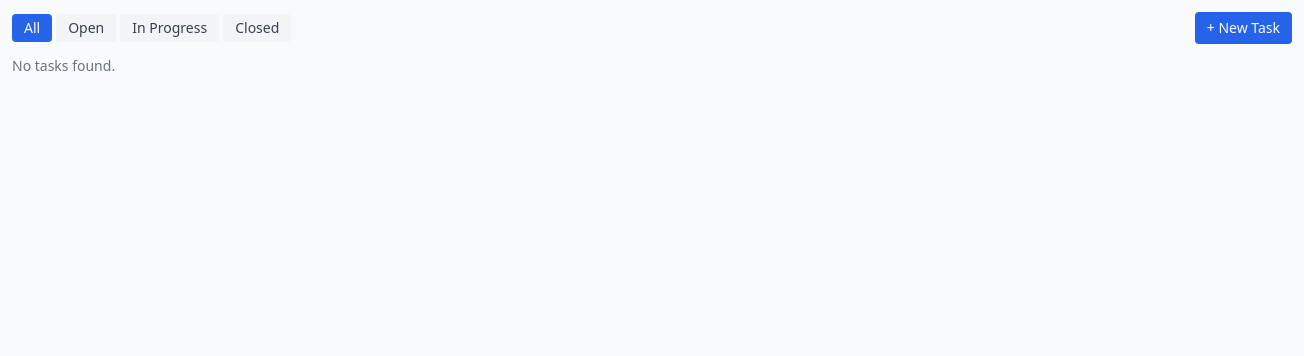
Test: IssueList › New Task button shows create form and Cancel hides it
Expected: the field with placeholder "Task title" is not shown
Click the button "+ New Task".
click(1243, 28)  # box [1195,12,1292,44]
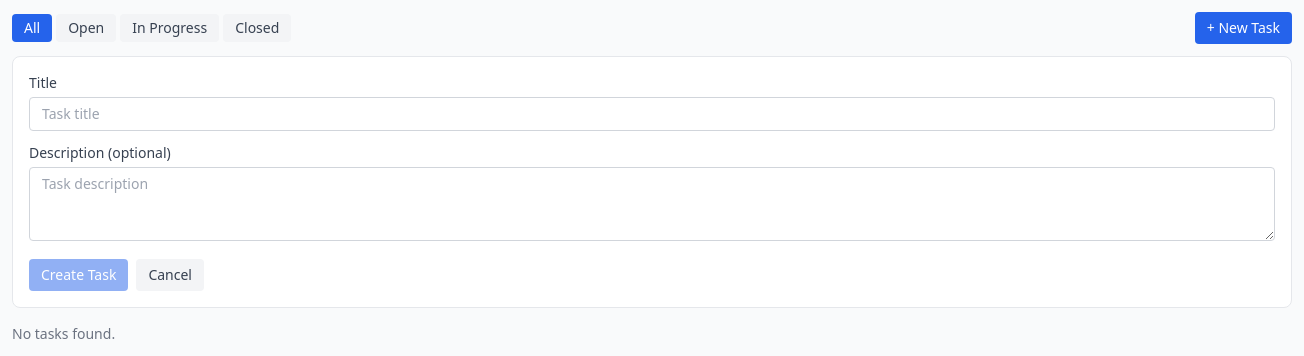
Now the field with placeholder "Task title" is shown, box [29,97,1275,131]
Click the button "Cancel".
click(170, 275)  # box [136,259,204,291]
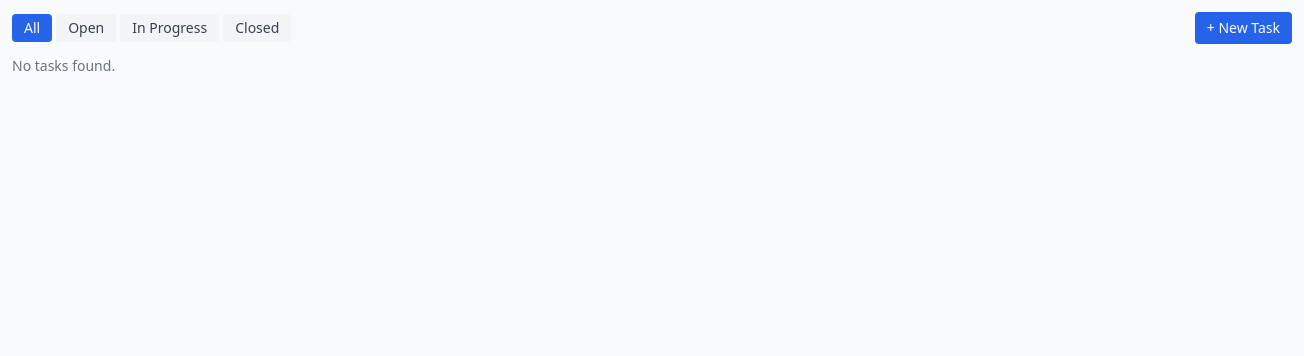
Now the field with placeholder "Task Title" is gone
